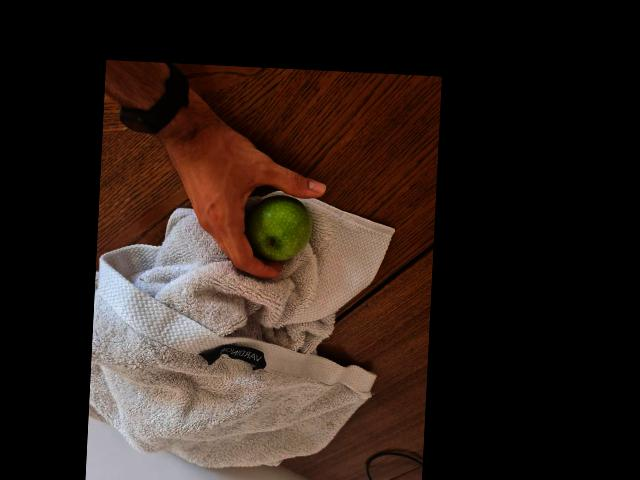apple: (237, 191, 317, 255)
